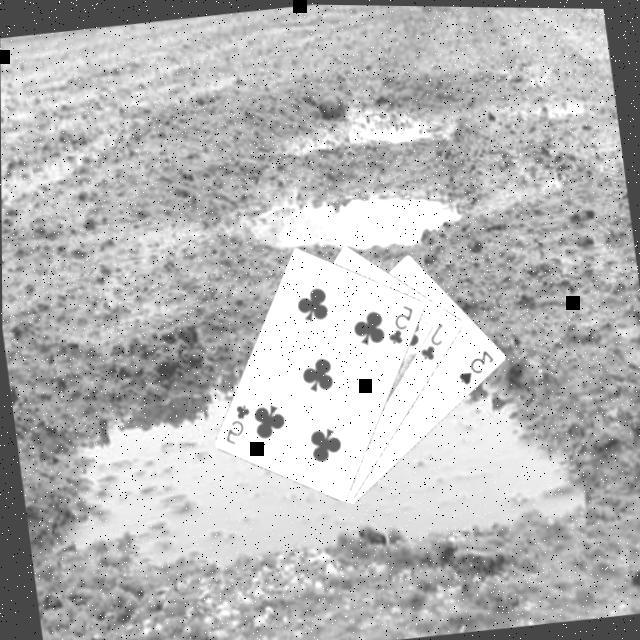3S: (451, 340, 500, 386)
5C: (218, 396, 257, 445), (381, 297, 420, 345)
JC: (413, 314, 450, 361)
